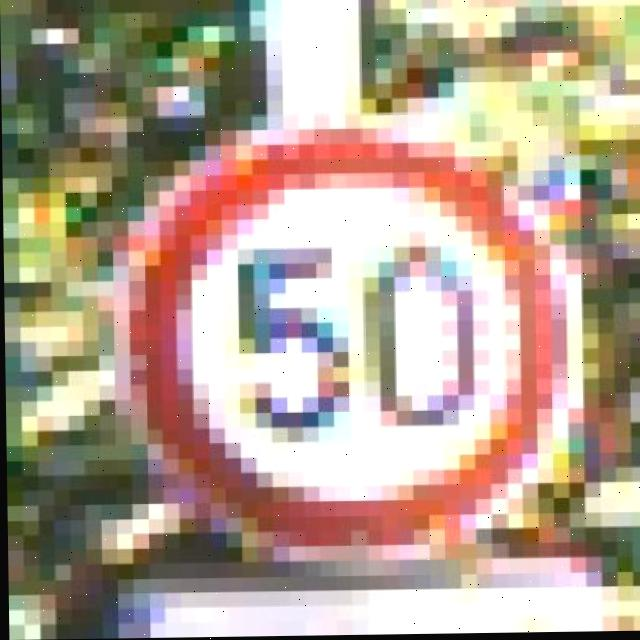Speed limit 50: (119, 122, 585, 569)
